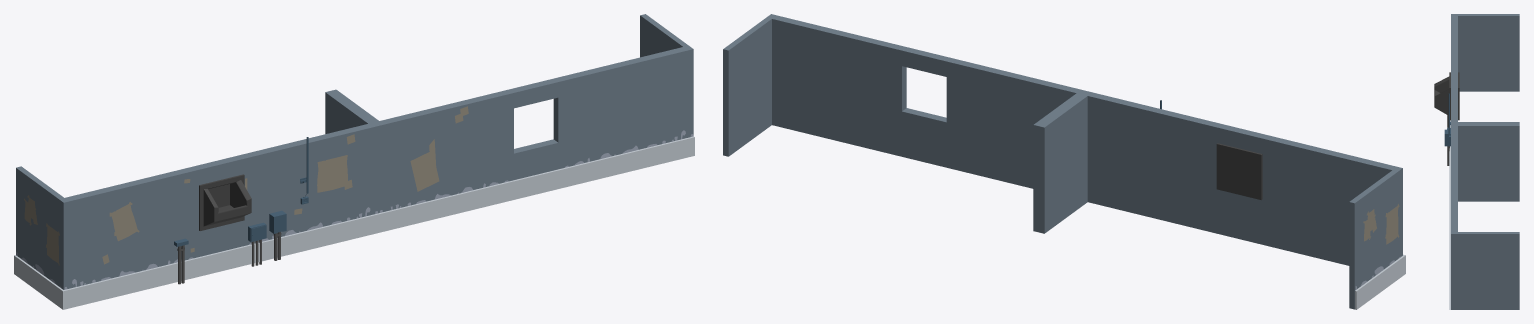
File: decor4_1.fbx
3 views of the same model, side by side, from view 1: azimuth 30°, elevation 25°; view 2: azimuth 150°, elevation 25°; view 3: azimuth 270°, elevation 25° (orthographic). The views are drawn at different scales.
Parts seen in each view (by area): view 1: decor1_5; view 2: decor1_5; view 3: decor1_5.
Part boxes in pixels (left/top/right/bottom): decor1_5: left=14, top=14, right=694, bottom=309; decor1_5: left=723, top=14, right=1405, bottom=309; decor1_5: left=1434, top=14, right=1519, bottom=309.
Bounding box in the file's own units: 1773 × 311 × 290.
